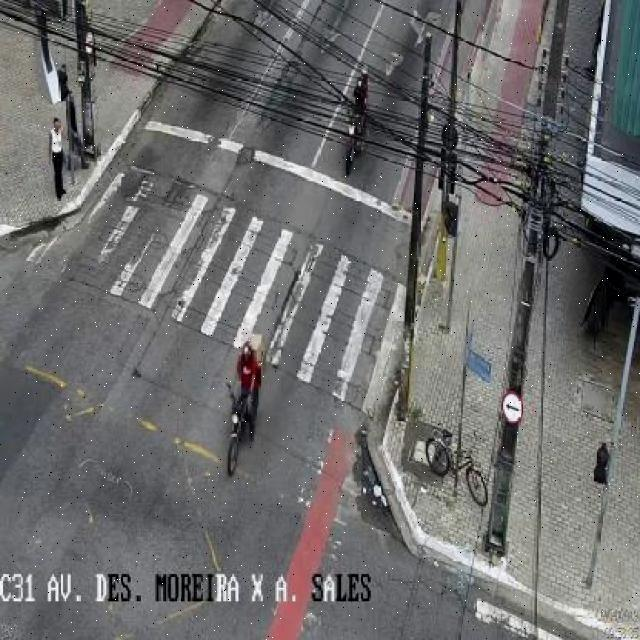Cycle: (423, 429, 491, 507), (224, 381, 260, 477), (342, 104, 368, 172)
